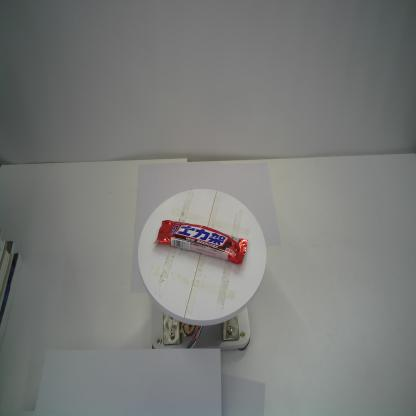Chocolate: (153, 219, 248, 266)
